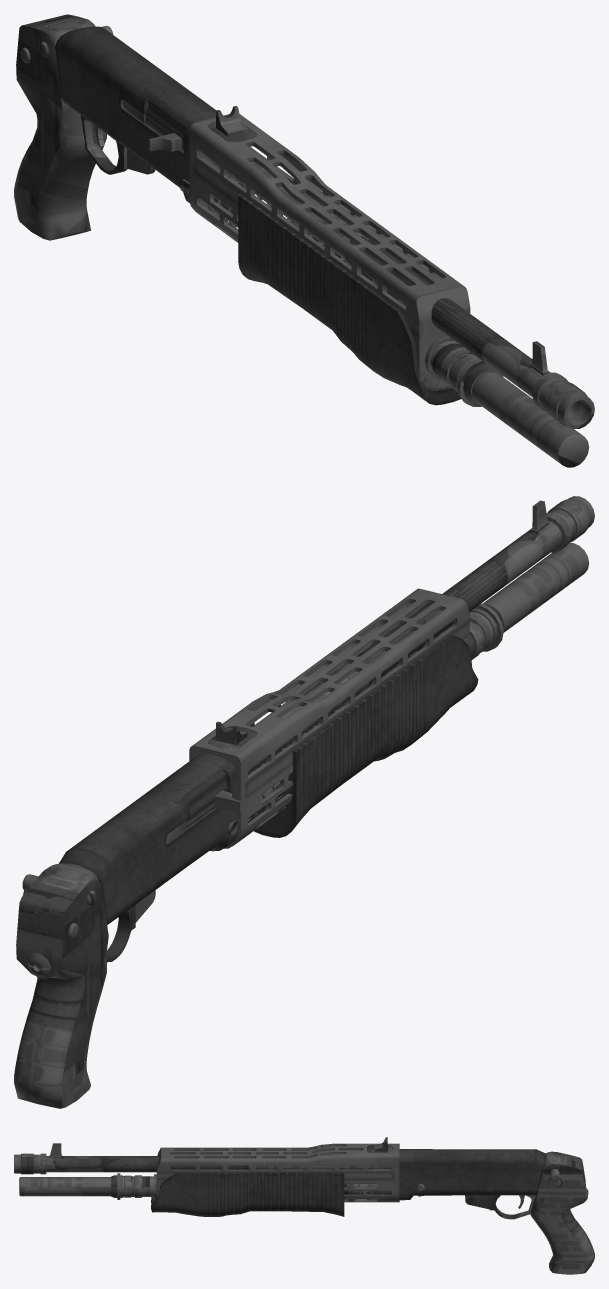
File: SPAS.fbx
3 renders of one model, top to bottom at view 1: azimuth 30°, elevation 25°; view 2: azimuth 150°, elevation 25°; view 3: azimuth 270°, elevation 25°, orthographic. The views are drawn at different scales.
Visible parts, largest first — view 1: defaultMaterial, defaultMaterial.001; view 2: defaultMaterial, defaultMaterial.001; view 3: defaultMaterial, defaultMaterial.001.
Part boxes in pixels (bbox=[...]): defaultMaterial: bbox=[55, 26, 470, 405]; defaultMaterial.001: bbox=[14, 14, 594, 467]; defaultMaterial: bbox=[59, 588, 478, 924]; defaultMaterial.001: bbox=[14, 496, 594, 1108]; defaultMaterial: bbox=[151, 1143, 546, 1216]; defaultMaterial.001: bbox=[14, 1137, 594, 1274].
Size of the model in its own units: 43.95 by 117 by 476.
